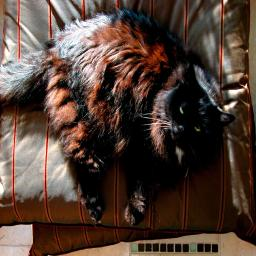catnose: (178, 120, 187, 134)
